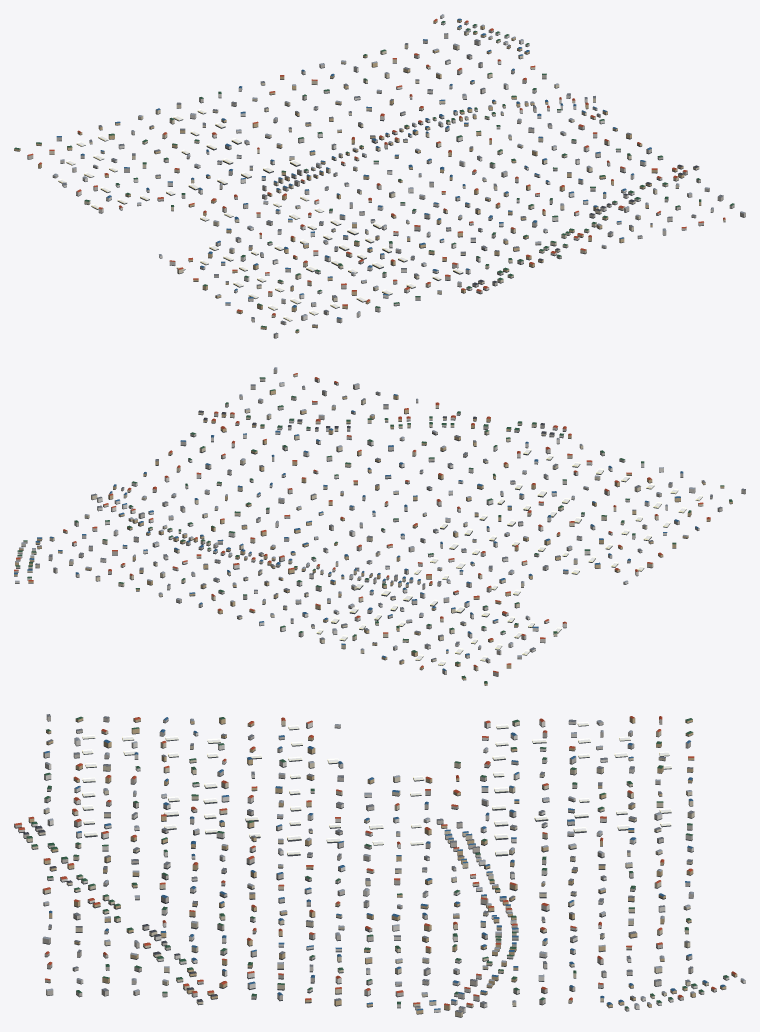
Rendered from buildings_T_W01_N00.glb.
3 renders of one model, top to bottom at view 1: azimuth 30°, elevation 25°; view 2: azimuth 150°, elevation 25°; view 3: azimuth 270°, elevation 25°, orthographic. The views are drawn at different scales.
Parts seen in each view (by area): view 1: T_W01_N00_slope_seating_foundations, T_W01_N00_walls_wall_pastel_sand_gray, T_W01_N00_walls_wall_french_ochre_villa, T_W01_N00_walls_wall_modern_warm_white, T_W01_N00_walls_wall_dalat_cream_stucco, T_W01_N00_roofs_agri_greenhouse_arch, T_W01_N00_roofs_roof_terracotta_gable, T_W01_N00_roofs_roof_pine_green_hip, T_W01_N00_roofs_roof_highland_blue_gable, T_W01_N00_roofs_roof_commercial_flat_parapet, T_W01_N00_roofs_roof_zinc_silver_gable; view 2: T_W01_N00_slope_seating_foundations, T_W01_N00_walls_wall_pastel_sand_gray, T_W01_N00_walls_wall_french_ochre_villa, T_W01_N00_walls_wall_dalat_cream_stucco, T_W01_N00_walls_wall_modern_warm_white, T_W01_N00_roofs_agri_greenhouse_arch, T_W01_N00_roofs_roof_terracotta_gable, T_W01_N00_roofs_roof_pine_green_hip, T_W01_N00_roofs_roof_highland_blue_gable, T_W01_N00_roofs_roof_commercial_flat_parapet, T_W01_N00_roofs_roof_zinc_silver_gable; view 3: T_W01_N00_slope_seating_foundations, T_W01_N00_walls_wall_pastel_sand_gray, T_W01_N00_walls_wall_french_ochre_villa, T_W01_N00_walls_wall_dalat_cream_stucco, T_W01_N00_walls_wall_modern_warm_white, T_W01_N00_roofs_agri_greenhouse_arch, T_W01_N00_roofs_roof_terracotta_gable, T_W01_N00_roofs_roof_pine_green_hip, T_W01_N00_roofs_roof_highland_blue_gable, T_W01_N00_roofs_roof_zinc_silver_gable, T_W01_N00_roofs_roof_commercial_flat_parapet.
Boxes of the visible parts, box(x1,y1,x2,y2) form: T_W01_N00_slope_seating_foundations: box(14, 17, 745, 338); T_W01_N00_walls_wall_pastel_sand_gray: box(27, 22, 745, 338); T_W01_N00_walls_wall_french_ochre_villa: box(14, 20, 701, 332); T_W01_N00_walls_wall_modern_warm_white: box(62, 15, 713, 320); T_W01_N00_walls_wall_dalat_cream_stucco: box(49, 26, 725, 317); T_W01_N00_roofs_agri_greenhouse_arch: box(58, 109, 463, 320); T_W01_N00_roofs_roof_terracotta_gable: box(28, 18, 725, 315); T_W01_N00_roofs_roof_pine_green_hip: box(14, 21, 734, 331); T_W01_N00_roofs_roof_highland_blue_gable: box(56, 18, 651, 318); T_W01_N00_roofs_roof_commercial_flat_parapet: box(62, 30, 723, 334); T_W01_N00_roofs_roof_zinc_silver_gable: box(53, 14, 744, 316); T_W01_N00_slope_seating_foundations: box(14, 373, 745, 685); T_W01_N00_walls_wall_pastel_sand_gray: box(14, 369, 745, 676); T_W01_N00_walls_wall_french_ochre_villa: box(14, 390, 732, 685); T_W01_N00_walls_wall_dalat_cream_stucco: box(27, 374, 703, 670); T_W01_N00_walls_wall_modern_warm_white: box(15, 383, 695, 651); T_W01_N00_roofs_agri_greenhouse_arch: box(316, 448, 702, 665); T_W01_N00_roofs_roof_terracotta_gable: box(14, 373, 710, 672); T_W01_N00_roofs_roof_pine_green_hip: box(15, 377, 732, 683); T_W01_N00_roofs_roof_highland_blue_gable: box(14, 394, 698, 670); T_W01_N00_roofs_roof_commercial_flat_parapet: box(35, 384, 745, 661); T_W01_N00_roofs_roof_zinc_silver_gable: box(15, 367, 695, 659); T_W01_N00_slope_seating_foundations: box(14, 719, 745, 1017); T_W01_N00_walls_wall_pastel_sand_gray: box(14, 715, 716, 1010); T_W01_N00_walls_wall_french_ochre_villa: box(28, 717, 737, 1013); T_W01_N00_walls_wall_dalat_cream_stucco: box(26, 720, 708, 1016); T_W01_N00_walls_wall_modern_warm_white: box(18, 720, 745, 1012); T_W01_N00_roofs_agri_greenhouse_arch: box(82, 721, 671, 854); T_W01_N00_roofs_roof_terracotta_gable: box(15, 716, 736, 1005); T_W01_N00_roofs_roof_pine_green_hip: box(26, 716, 728, 1008); T_W01_N00_roofs_roof_highland_blue_gable: box(44, 717, 725, 1010); T_W01_N00_roofs_roof_zinc_silver_gable: box(43, 718, 745, 1005); T_W01_N00_roofs_roof_commercial_flat_parapet: box(46, 714, 694, 1012).
Size of the model in its own units: 1881 by 105 by 1960.
